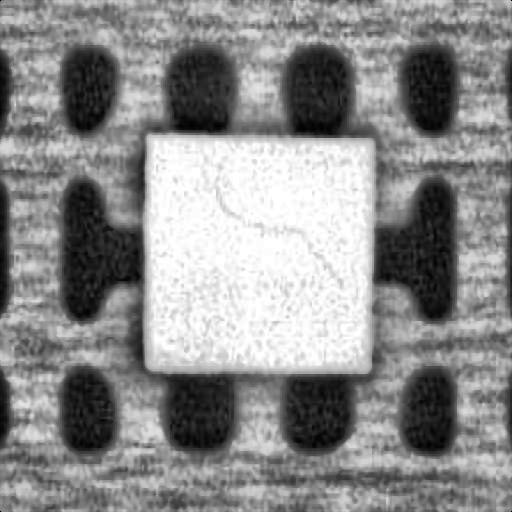DIE_CRACK: (214, 186, 346, 286)
